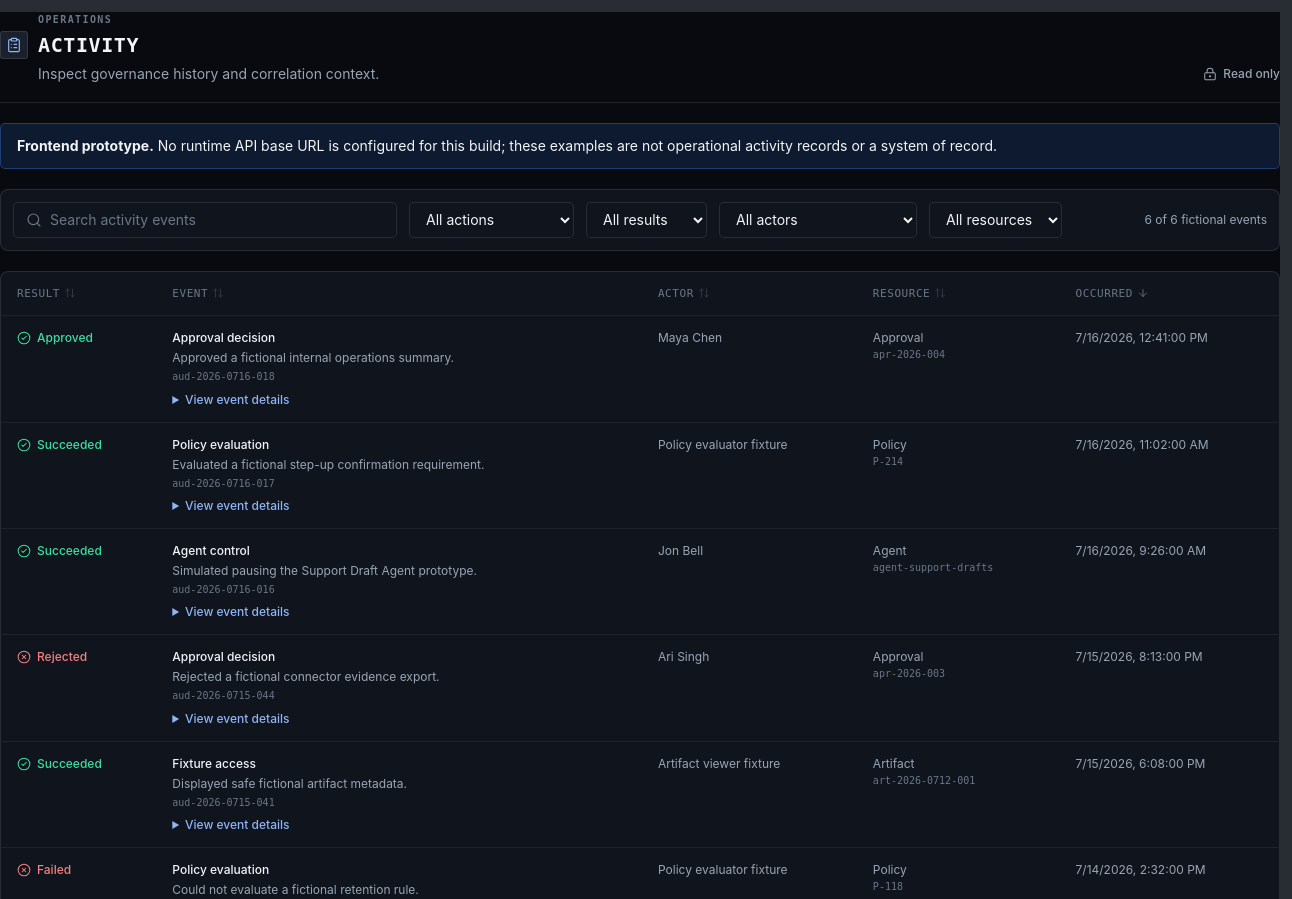
Test case: AuditWorkspace › is visibly read-only and exposes correlation context without mutation controls
The image size is (1292, 899).
Check: the text "not operational activity records or a system of record" is shown, box x1=154 y1=137 x2=997 y2=154
Click the heading "View event details" below "aud-2026-0716-018". click: click(231, 400)
box: x1=172 y1=392 x2=290 y2=408
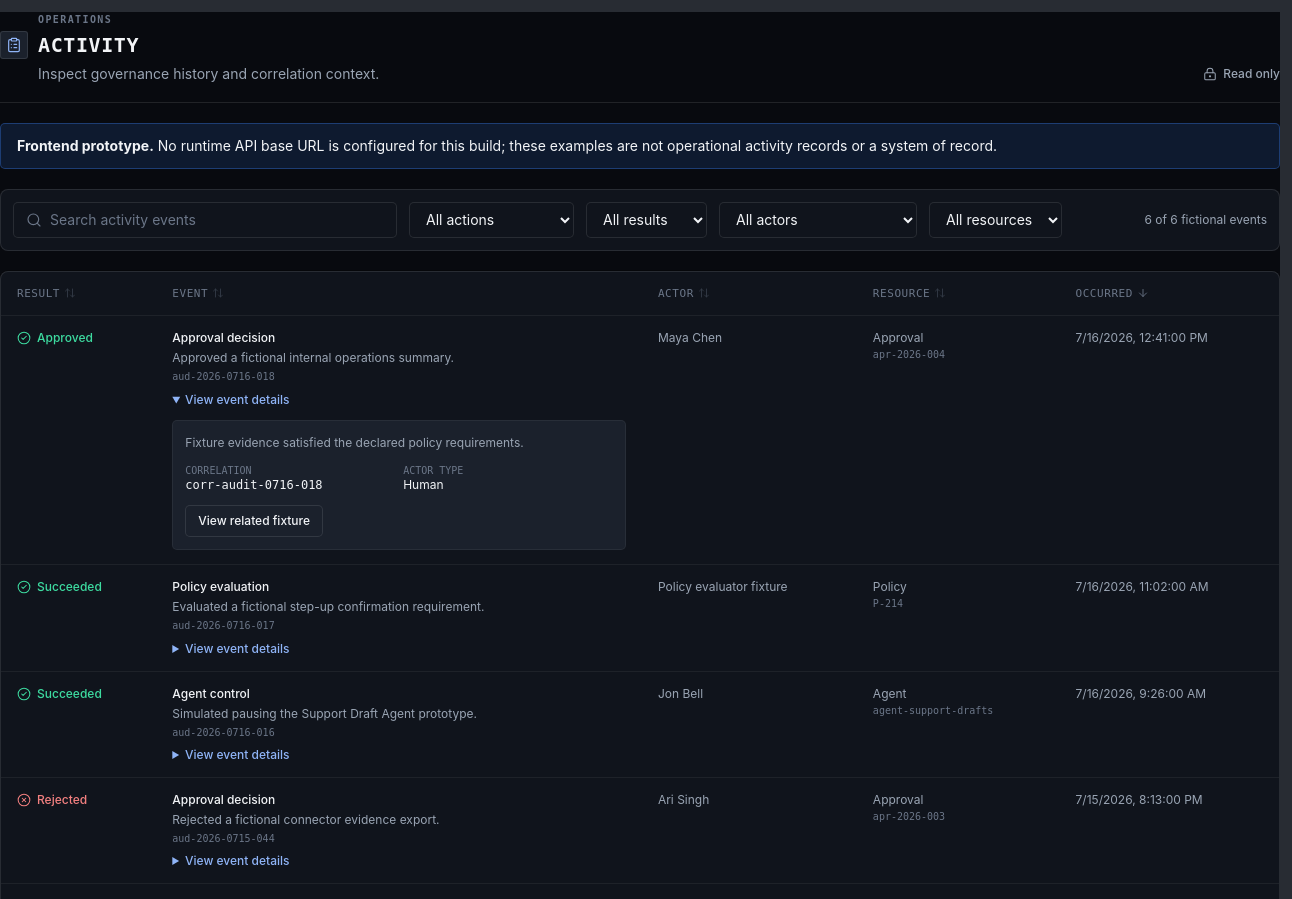
Check: the text "corr-audit-0716-018" is shown, box x1=185 y1=478 x2=323 y2=492
